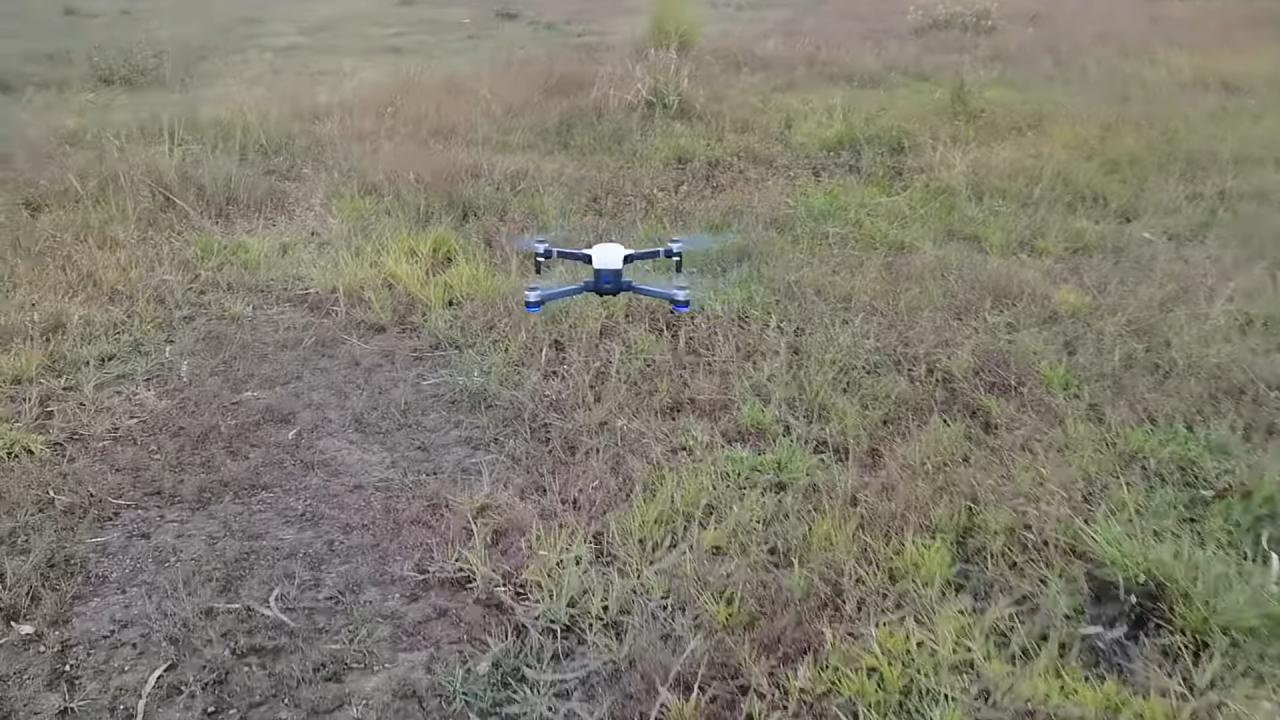Drone: (505, 214, 712, 329)
